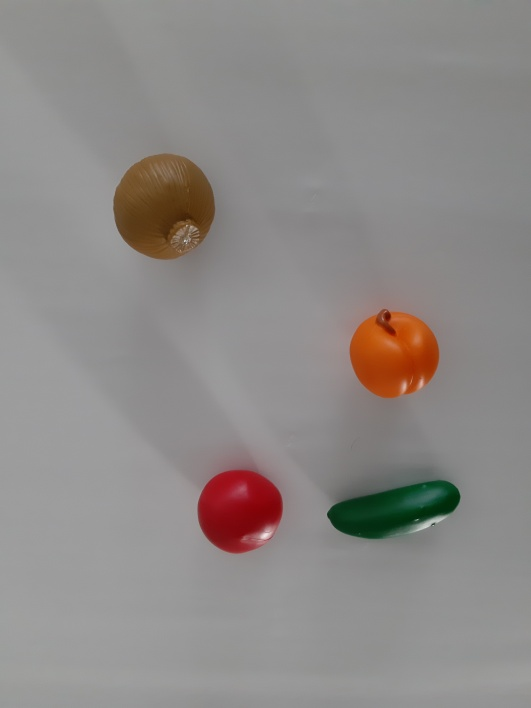apricot: (334, 297, 451, 408)
cucumber: (317, 466, 475, 563)
onion: (96, 143, 237, 276)
tomato: (180, 459, 299, 567)
